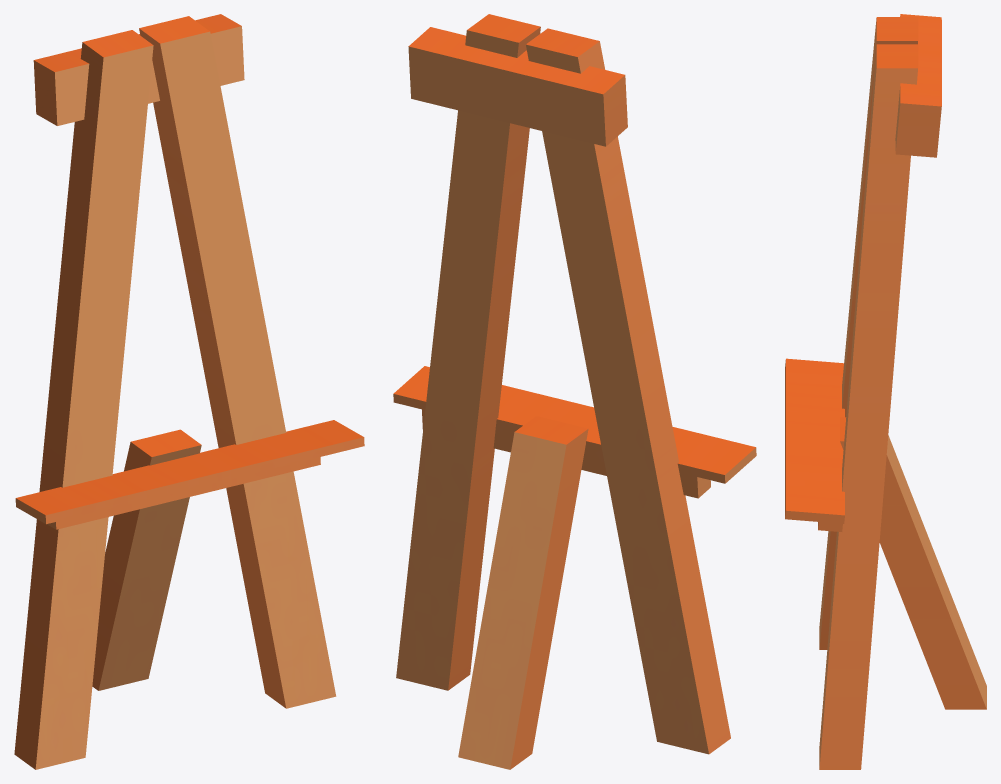
The model's file is SM_Canvas.fbx.
3 renders of one model, left to right at view 1: azimuth 30°, elevation 25°; view 2: azimuth 150°, elevation 25°; view 3: azimuth 270°, elevation 25°, orthographic. The views are drawn at different scales.
Visible parts, largest first — view 1: SM_Canvas; view 2: SM_Canvas; view 3: SM_Canvas.
Part boxes in pixels (x1=…): SM_Canvas: x1=14, y1=14, x2=364, y2=769; SM_Canvas: x1=393, y1=14, x2=756, y2=769; SM_Canvas: x1=785, y1=14, x2=986, y2=769.
Size of the model in its own units: 24.82 by 49.71 by 13.87.
